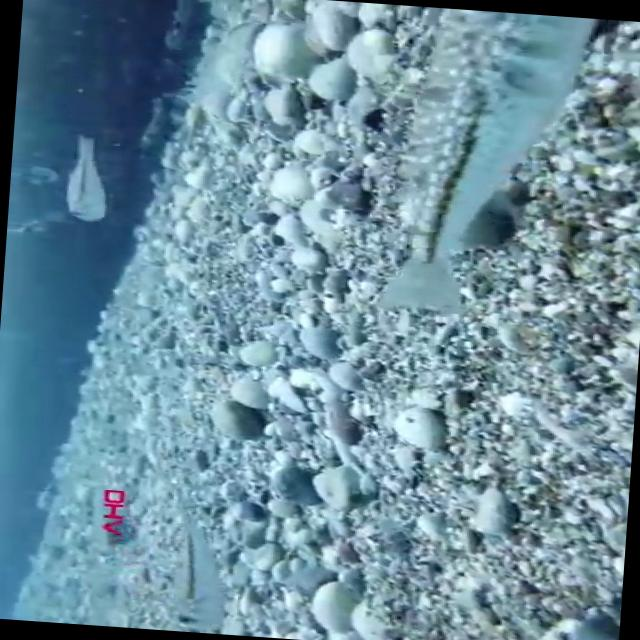Balon Baligi: (374, 5, 595, 322), (167, 498, 230, 632), (64, 136, 111, 222)
